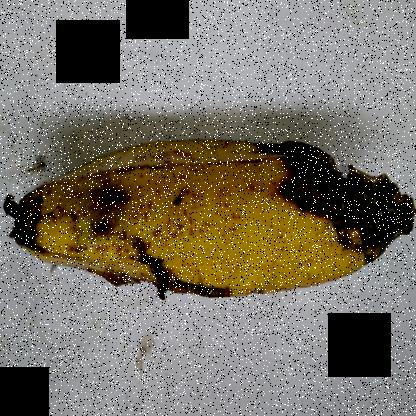rotten: (56, 160, 256, 323), (239, 125, 415, 278), (0, 152, 64, 267)
